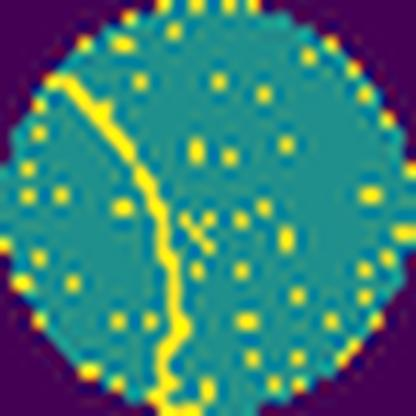Scratch: (43, 69, 216, 416)
